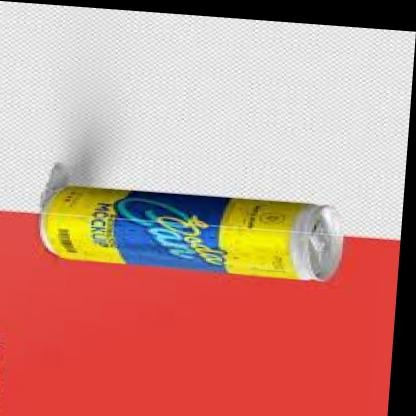trash: (41, 185, 341, 280)
